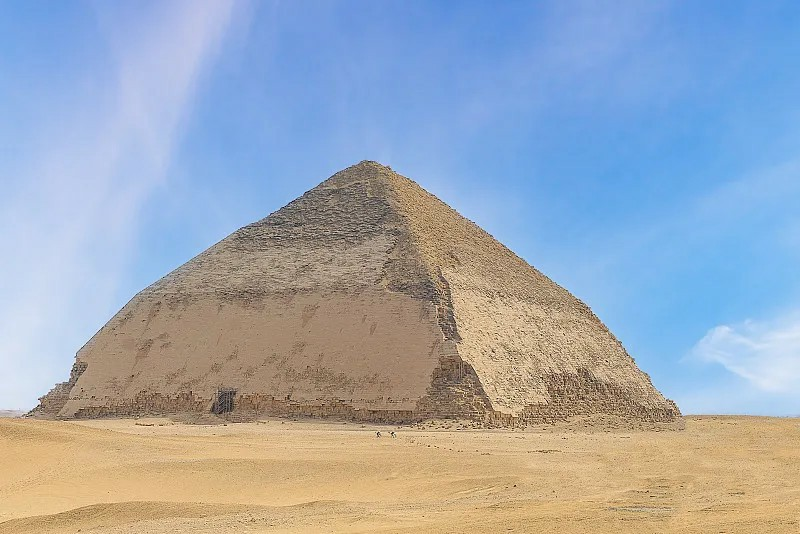Pyramid: (27, 160, 681, 425)
